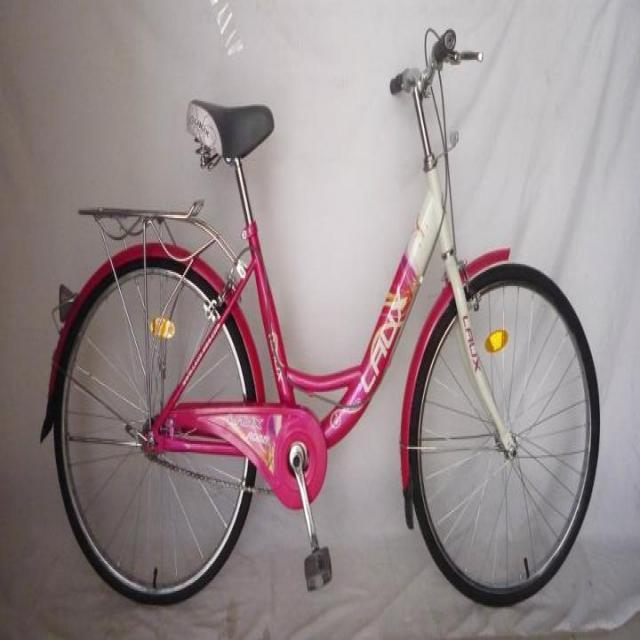Bicycle: (37, 20, 636, 628)
